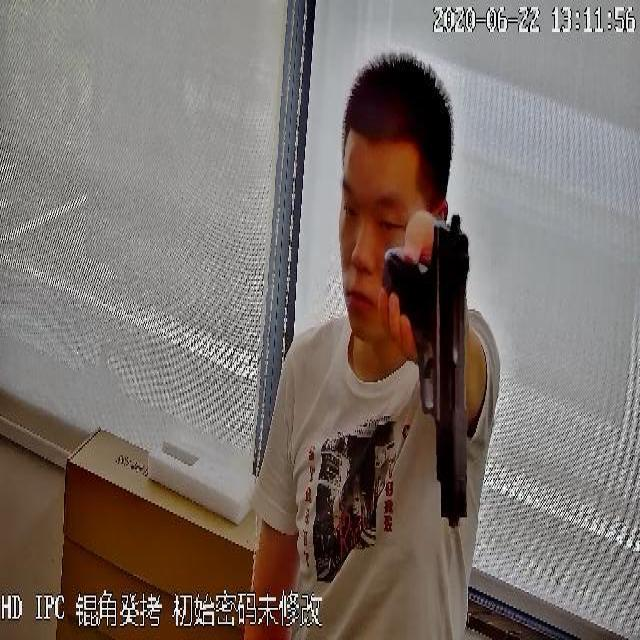pistol: (382, 208, 468, 528)
